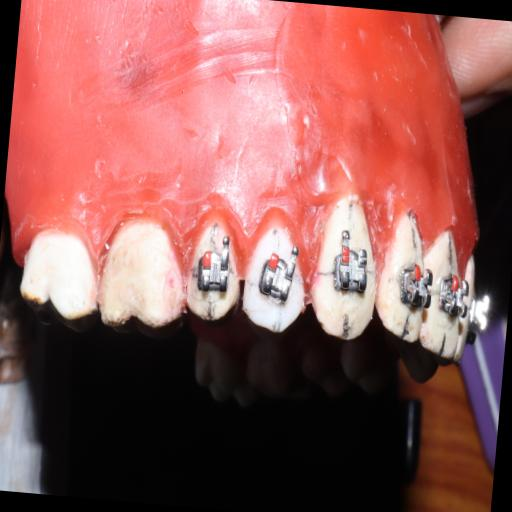correct_brace: (242, 219, 312, 336)
